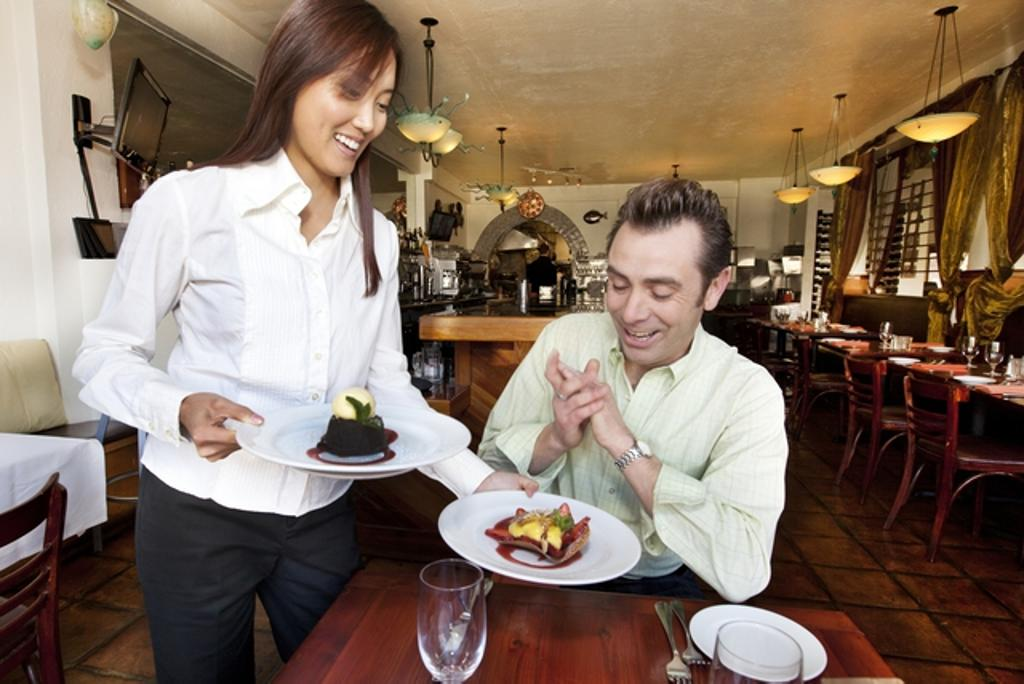face: (290, 40, 398, 172), (604, 226, 700, 366)
